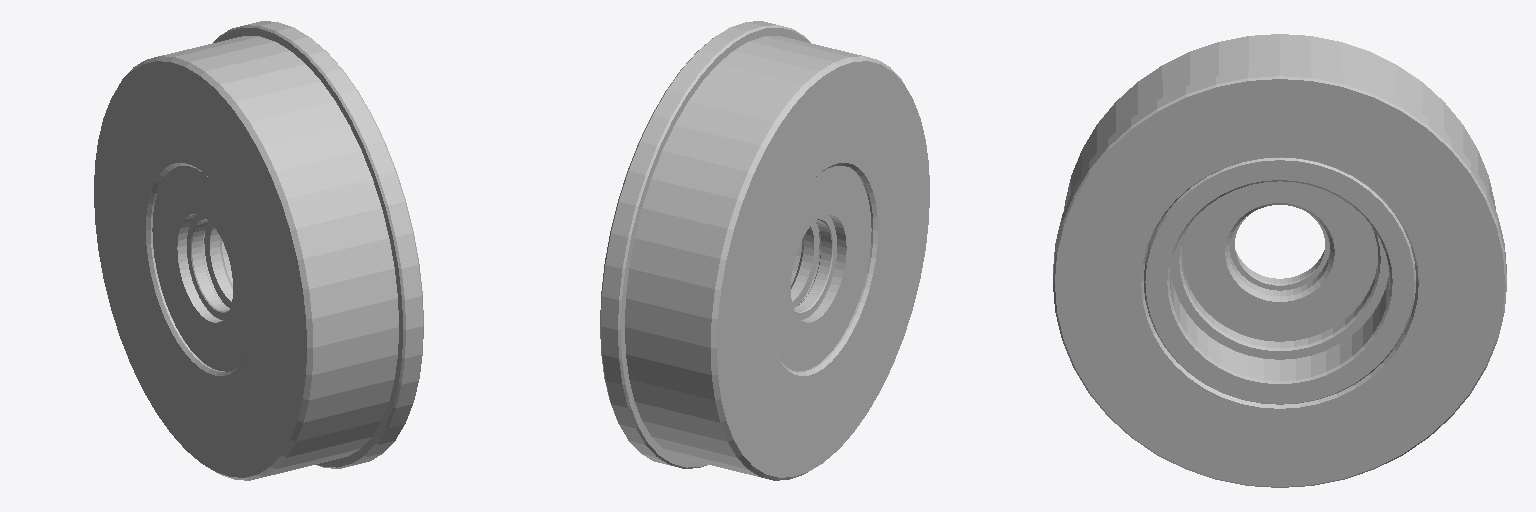
Rendered from KS1RS_Lens.obj.
3 renders of one model, left to right at view 1: azimuth 30°, elevation 25°; view 2: azimuth 150°, elevation 25°; view 3: azimuth 270°, elevation 25°, orthographic.
Visible parts, largest first — view 1: polySurface1269 pCylinder136; view 2: polySurface1269 pCylinder136; view 3: polySurface1269 pCylinder136.
Boxes of the visible parts, <box> form: polySurface1269 pCylinder136: <box>94,21,423,480</box>; polySurface1269 pCylinder136: <box>600,21,929,480</box>; polySurface1269 pCylinder136: <box>1053,34,1506,487</box>.
Size of the model in its own units: 14.86 by 52.71 by 52.71.